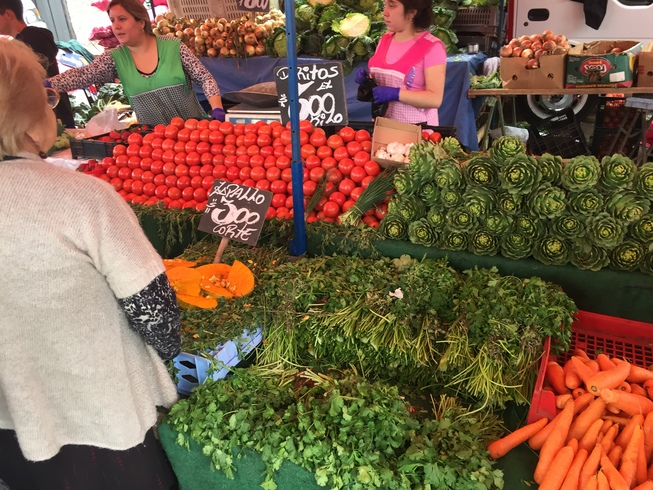precio: (269, 54, 351, 142), (194, 178, 274, 251)
